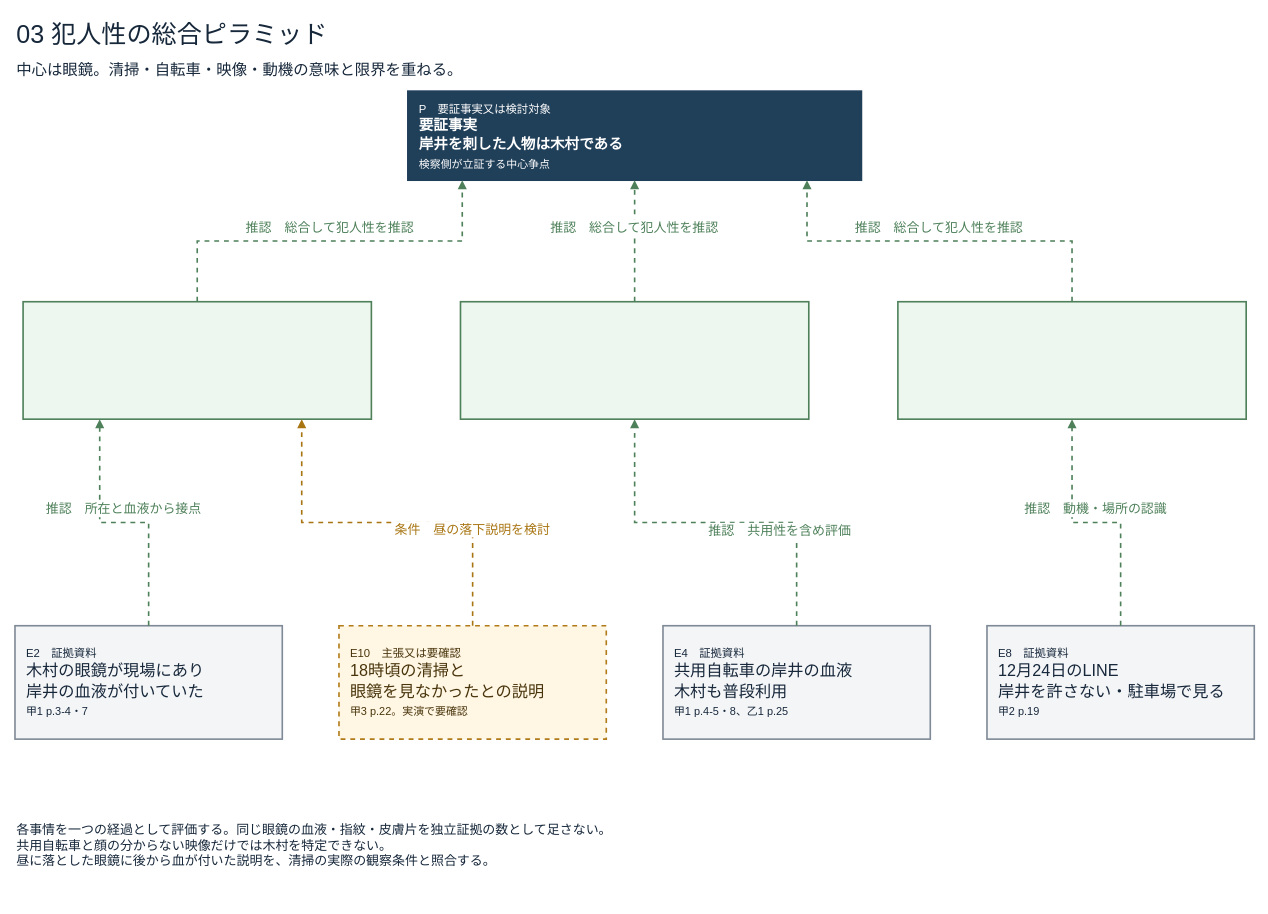
Image size: 1268x914. Some labels were removed from this diagram. The shapes that lost their labels are listed below. From the top down, each one's centre as x and y in pixels, then its label:
At point 197,360: "I1 検察側の推認 犯行時の現場との接点 眼鏡の所在・血液と落下時刻を評価 詳細 図04-05".
At point 634,360: "I2 検察側の推認 自転車利用の可能性 血液・通常利用・移動方向を評価 詳細 図06-07".
At point 1072,360: "I3 検察側の推認 被害者を対象とする背景 怒りと駐車場の認識を評価 詳細 図08".
